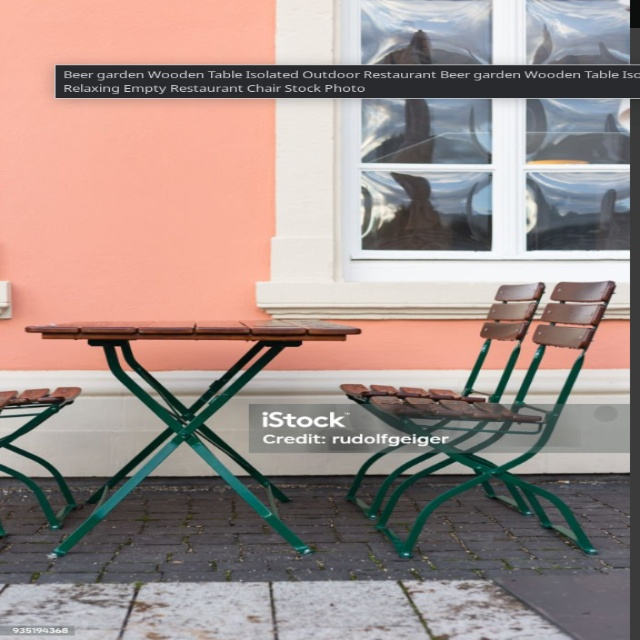obstacle: (26, 317, 367, 551), (349, 281, 602, 557)
